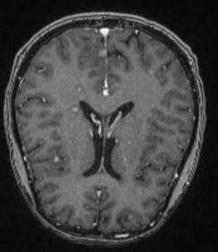Normal_Brain: (1, 1, 217, 252)
